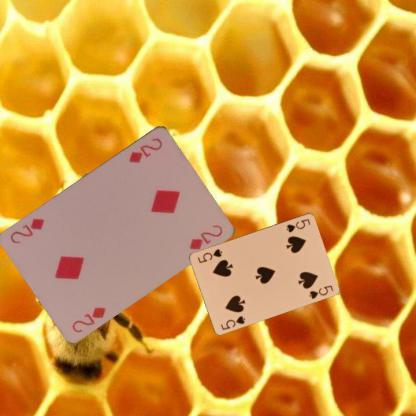2d: (70, 304, 107, 335), (126, 135, 164, 164)
5s: (218, 313, 247, 331), (284, 216, 311, 234)
